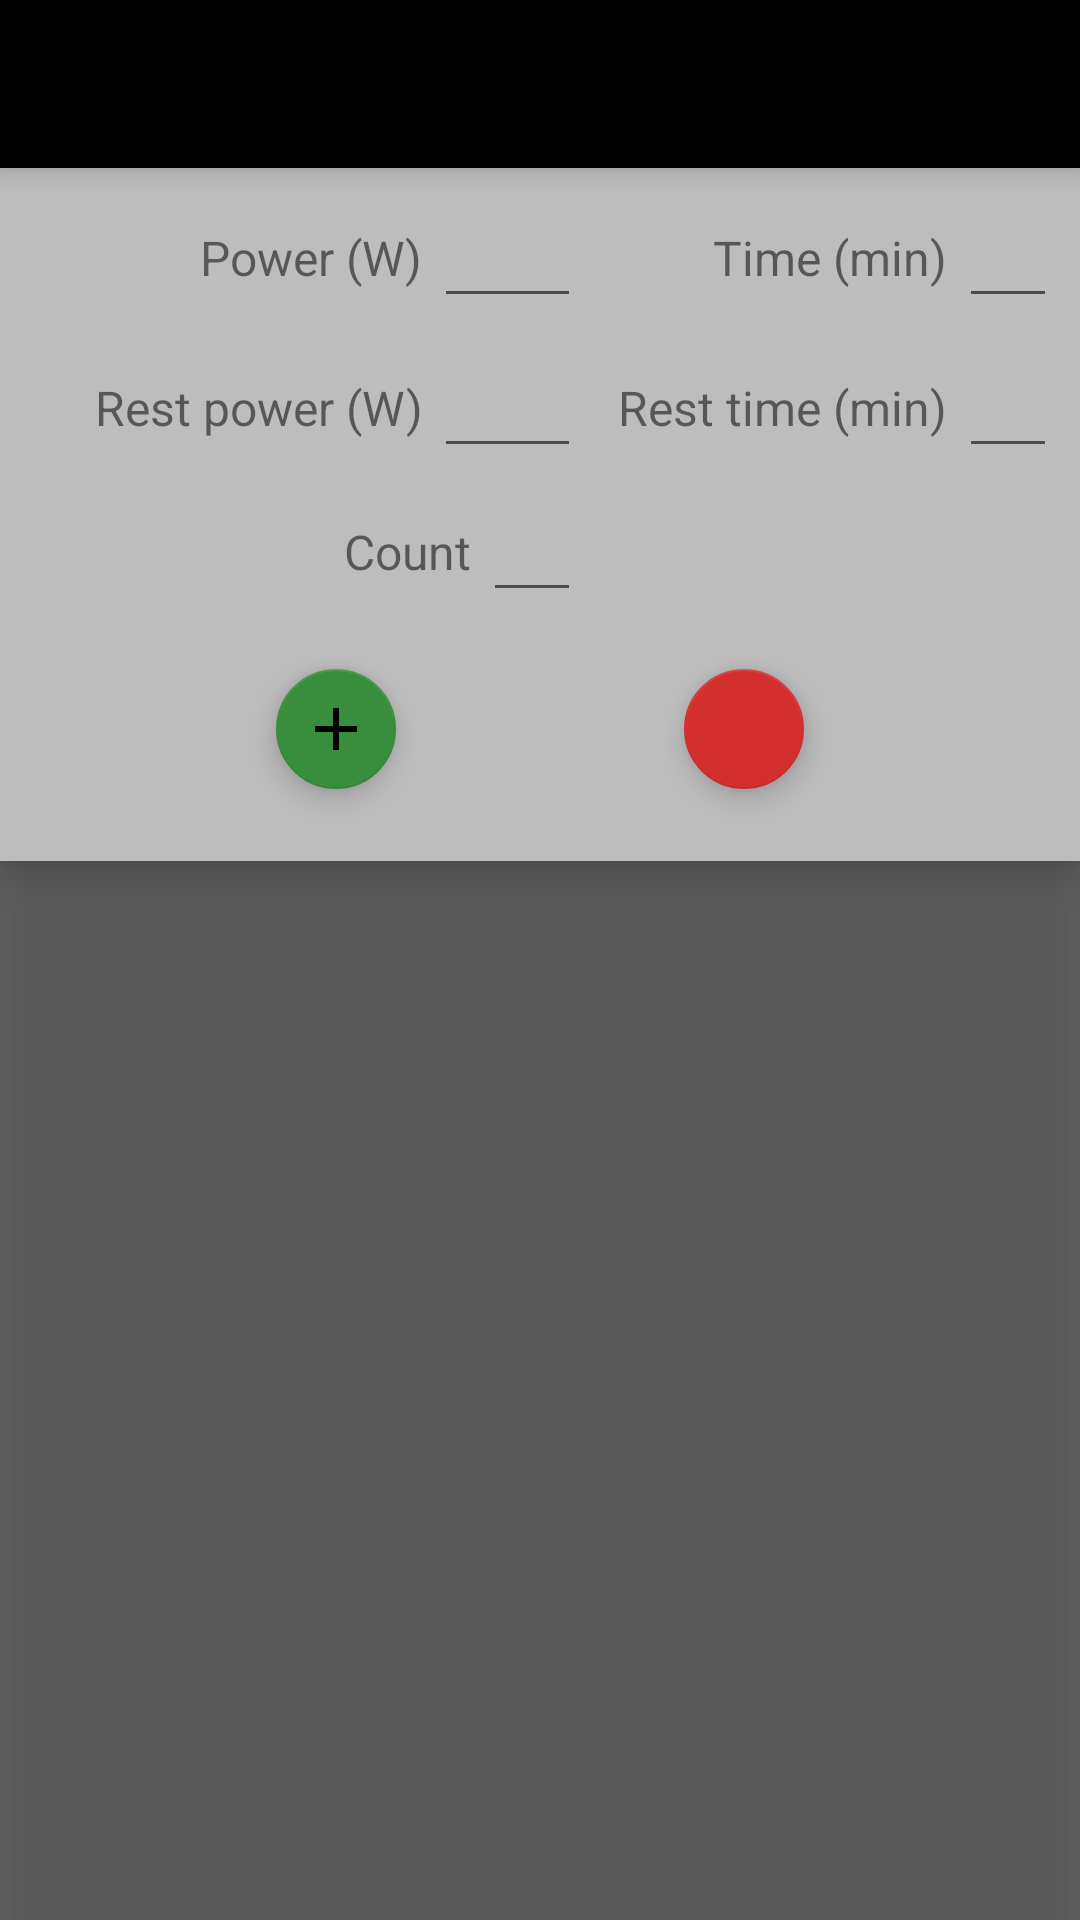

Where to tap for icons on this 1080 x 1920 app screen, as (x=x, y=y):
add: (x=336, y=729)
